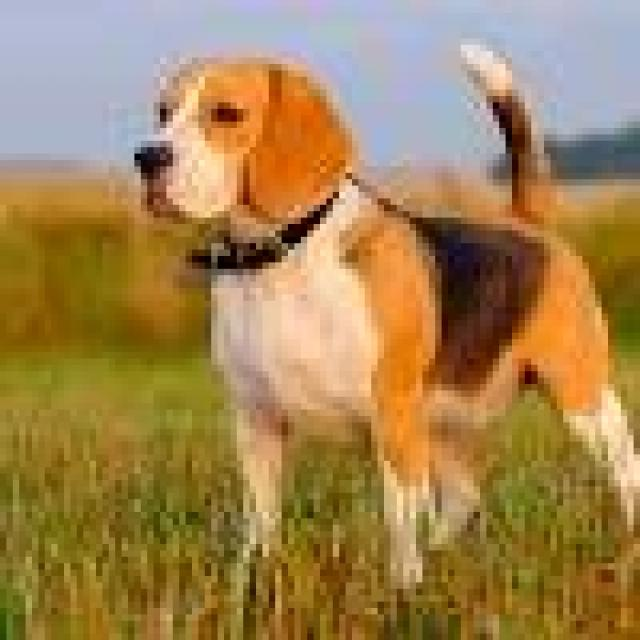Dog: (124, 37, 640, 594)
